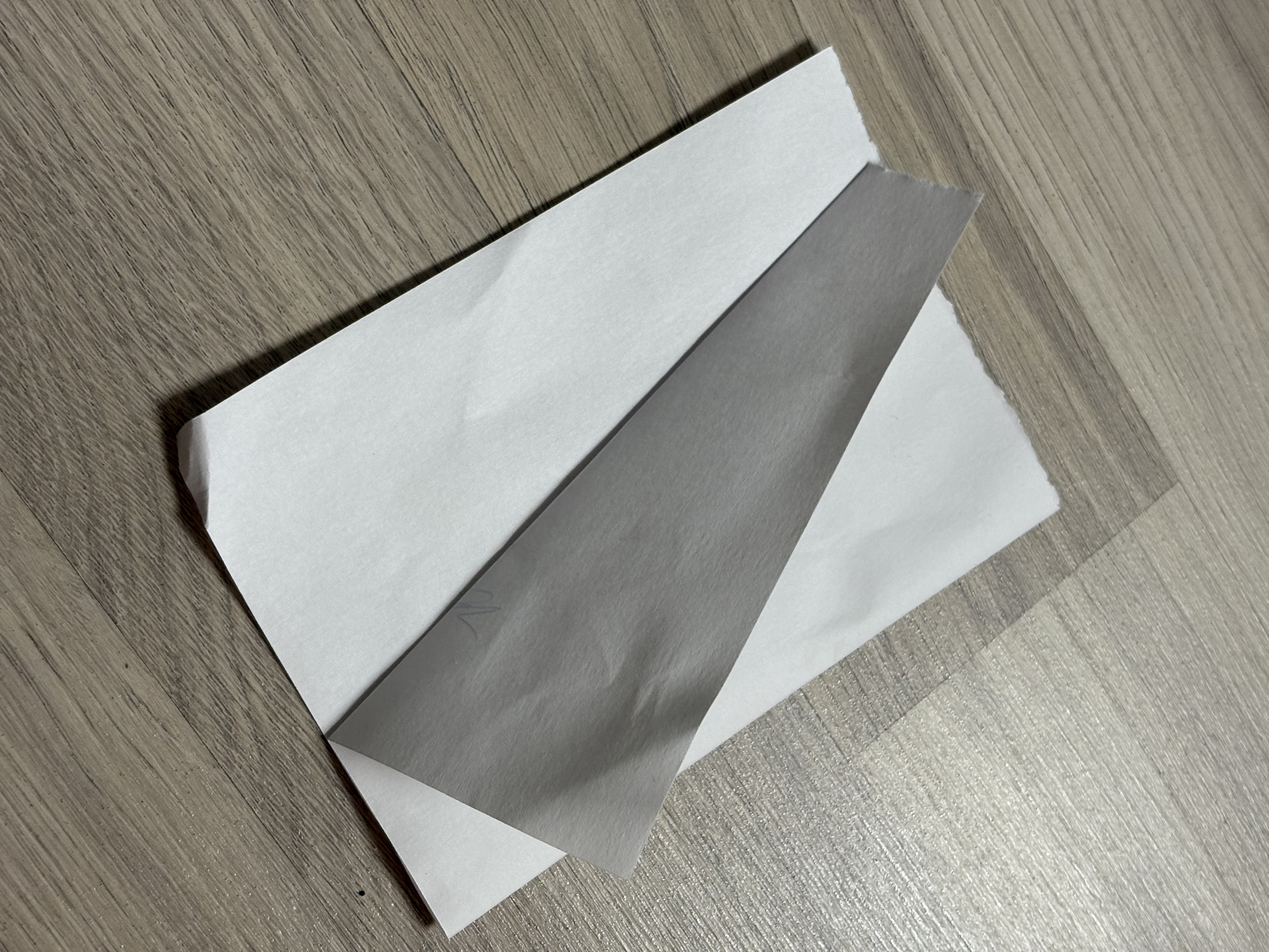paper: (175, 46, 1066, 938)
